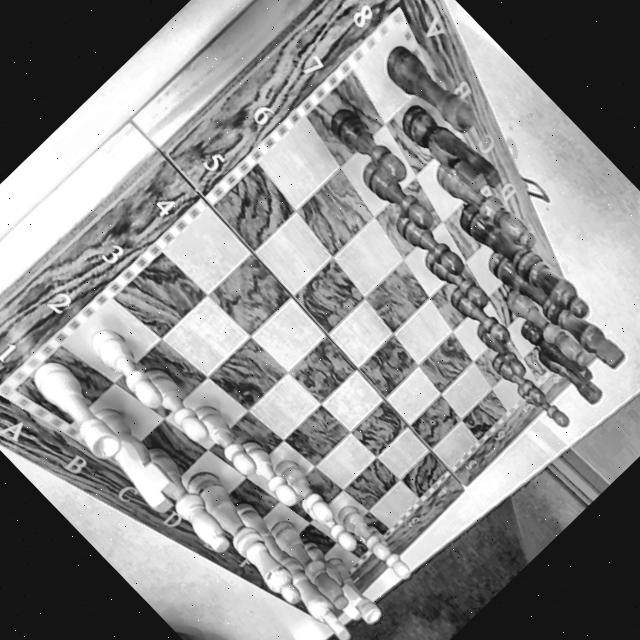black-pawn: (305, 82, 420, 199)
white-pawn: (68, 309, 172, 417)
